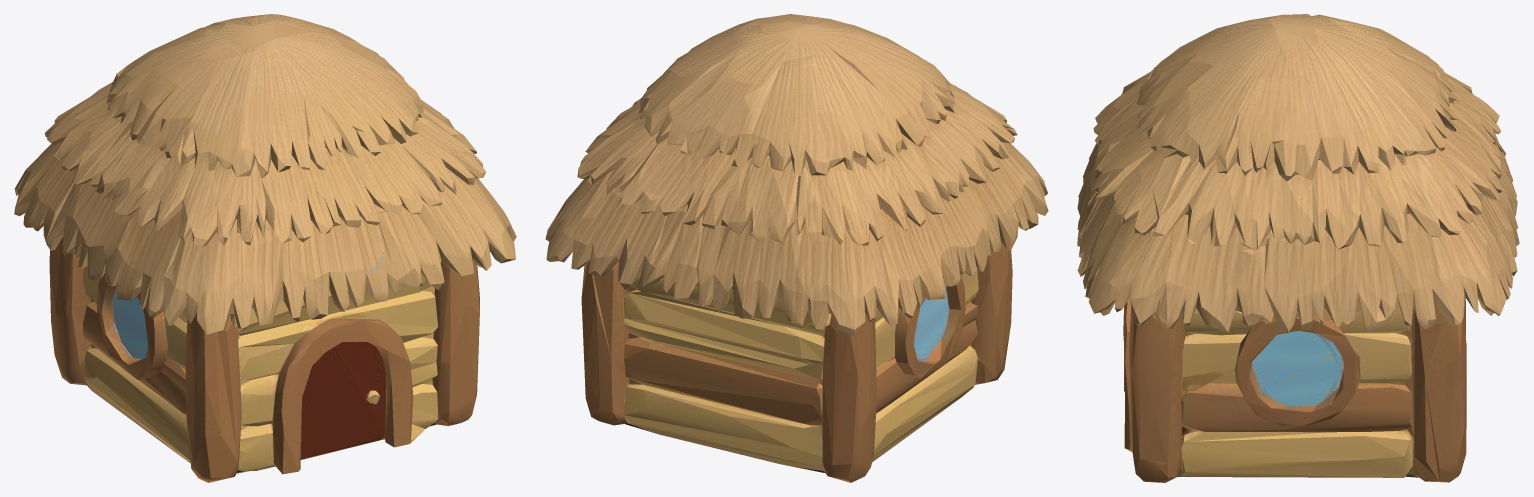
The model's file is hut.glb.
3 renders of one model, left to right at view 1: azimuth 30°, elevation 25°; view 2: azimuth 150°, elevation 25°; view 3: azimuth 270°, elevation 25°, orthographic. The views are drawn at different scales.
Parts seen in each view (by area): view 1: Mesh_0; view 2: Mesh_0; view 3: Mesh_0.
Part boxes in pixels (<box>): Mesh_0: <box>14,14,516,482</box>; Mesh_0: <box>545,14,1048,482</box>; Mesh_0: <box>1077,14,1519,482</box>.
Size of the model in its own units: 1.9 by 1.83 by 1.9.
1 material, 1 textured.
